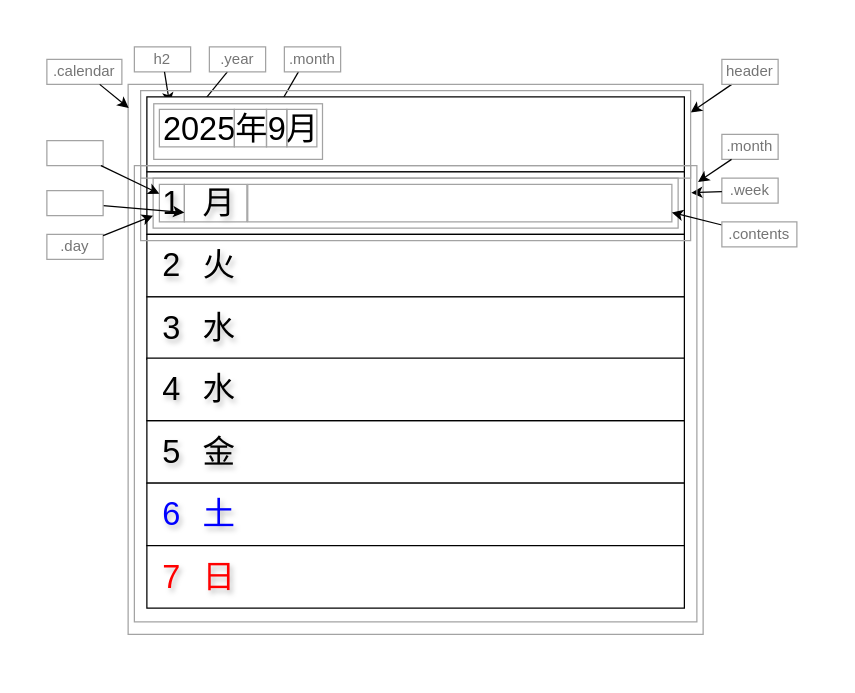
The diagram is 855 pixels wide and 693 high, and some of its shapes have lost their labels. Here are the shapes that lost their labels. From the top down, the centre of each, then its label:
At point (74, 152): ".cap".
At point (74, 202): ".w_cap".
